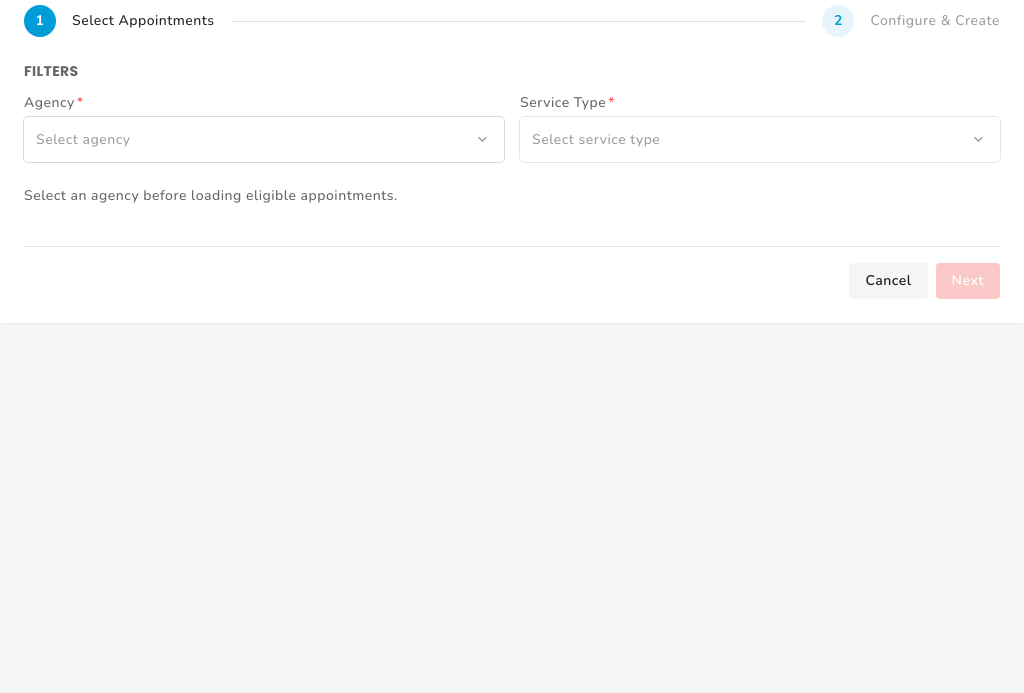
Test: ServiceGroupCreatePage › enables Next with a single appointment selected (no minimum)
Click the button labelled "Select agency" at (83, 139), box [24,117,504,162]
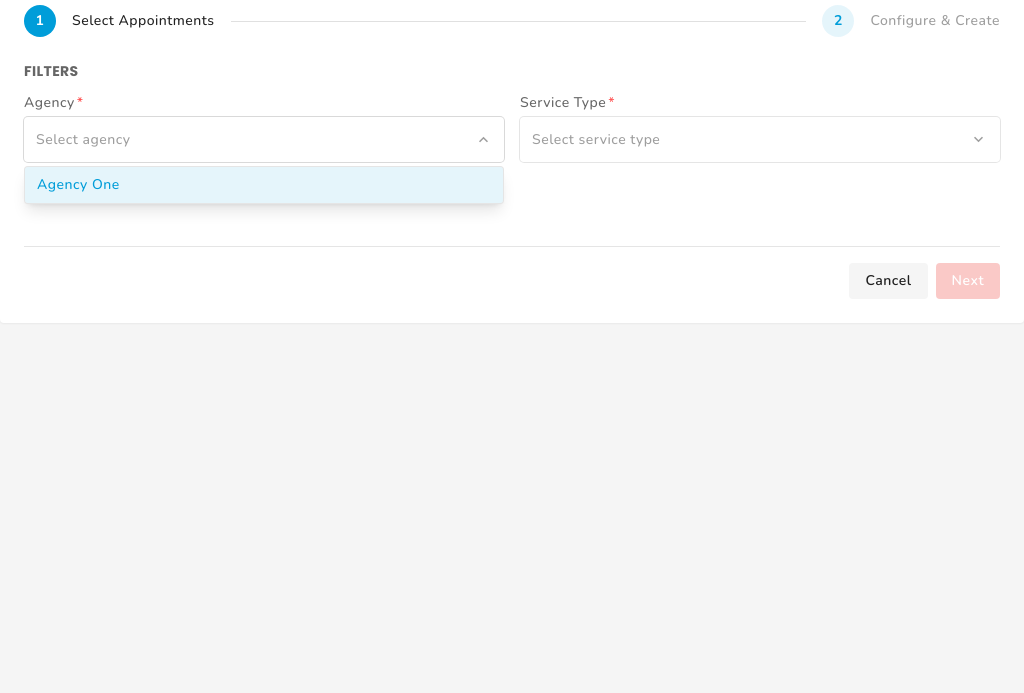
Click the option "Agency One" at (78, 184), box [25,167,503,203]
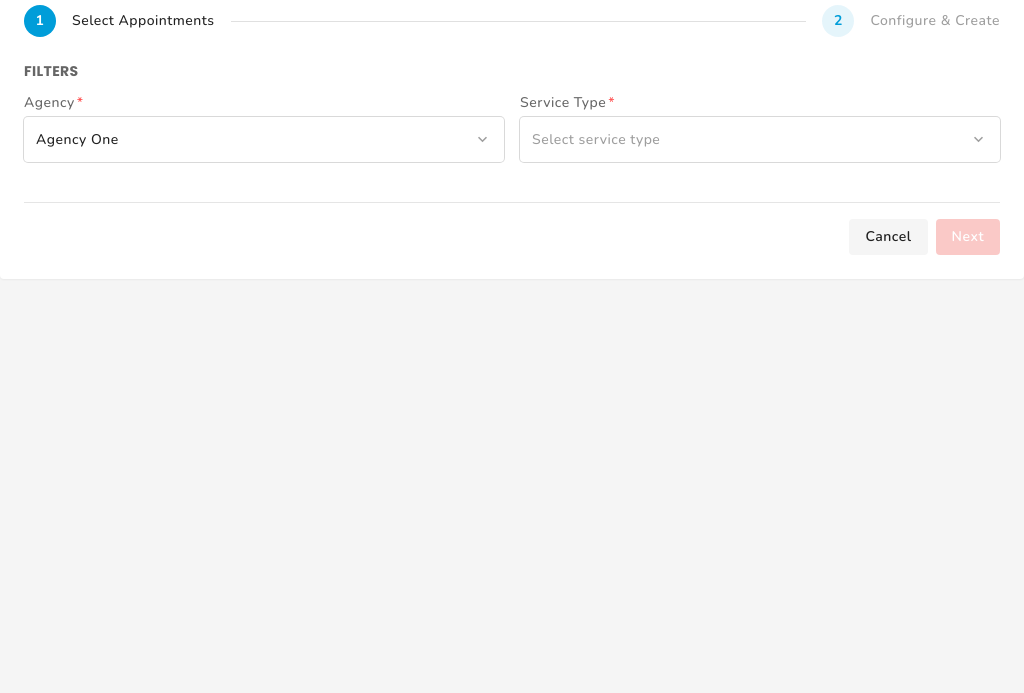
Click the button labelled "Select service type" at (596, 139), box [520,117,1000,162]
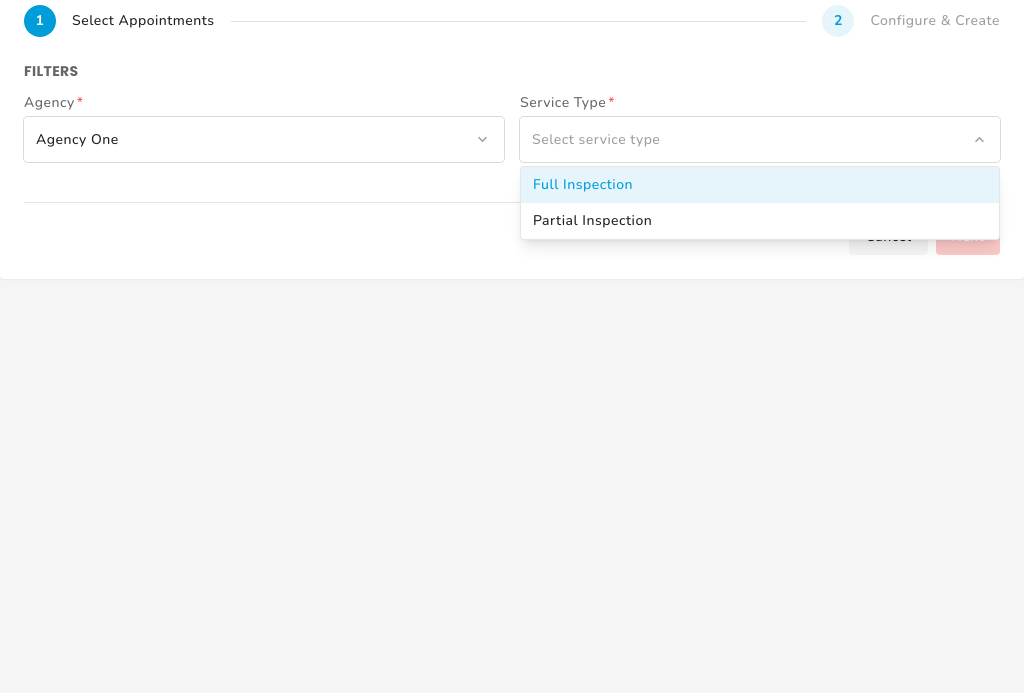
Click the option "Full Inspection" at (583, 184), box [521,167,999,203]
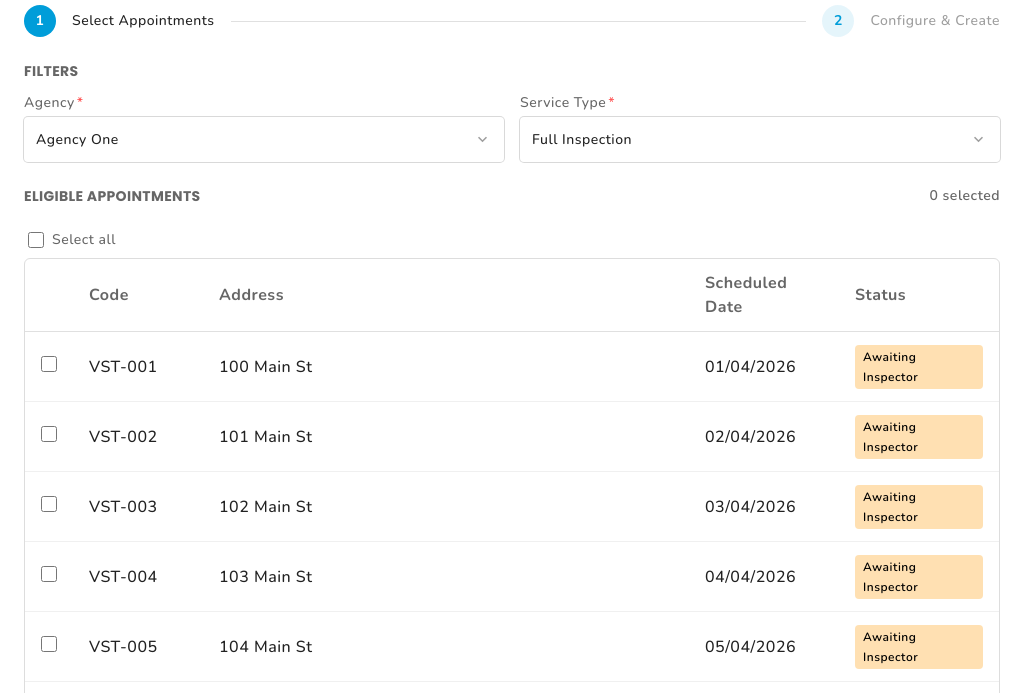
Click the checkbox named "Select VST-001" at (49, 364), box [41,356,57,372]
(page scrolled)
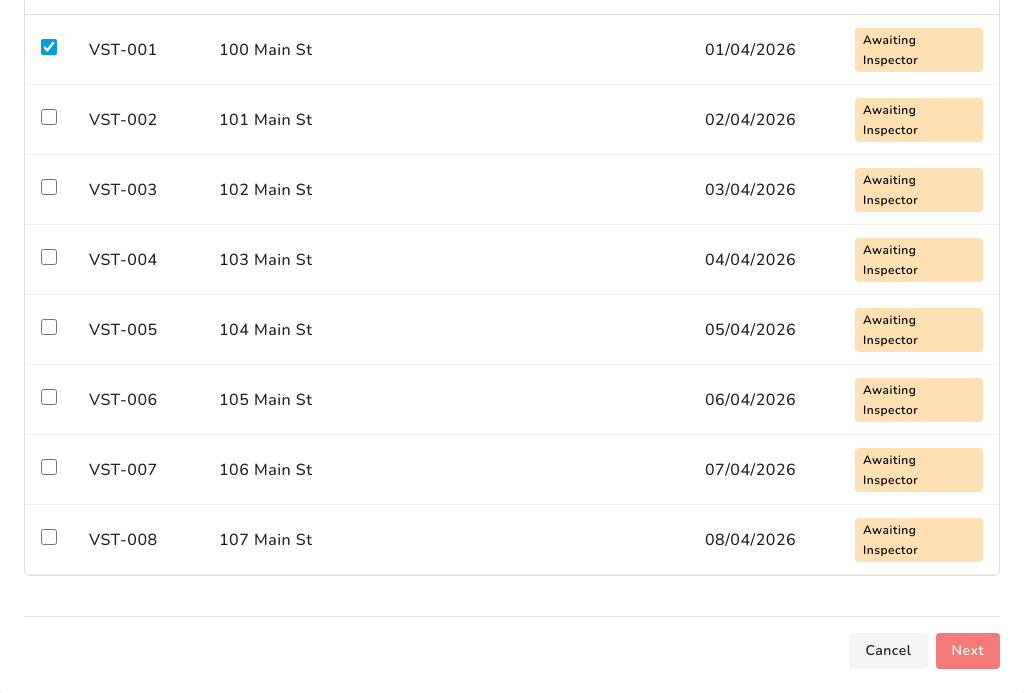
Result: the button "Next" is enabled at [936,633,1000,669]
